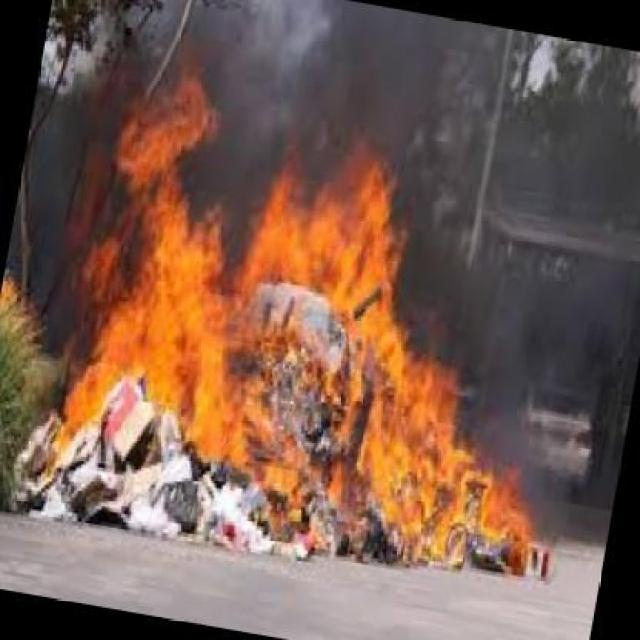Fire: (61, 84, 238, 469), (249, 175, 416, 535), (422, 370, 552, 554)
Smoke: (414, 64, 640, 350), (246, 0, 412, 148)
